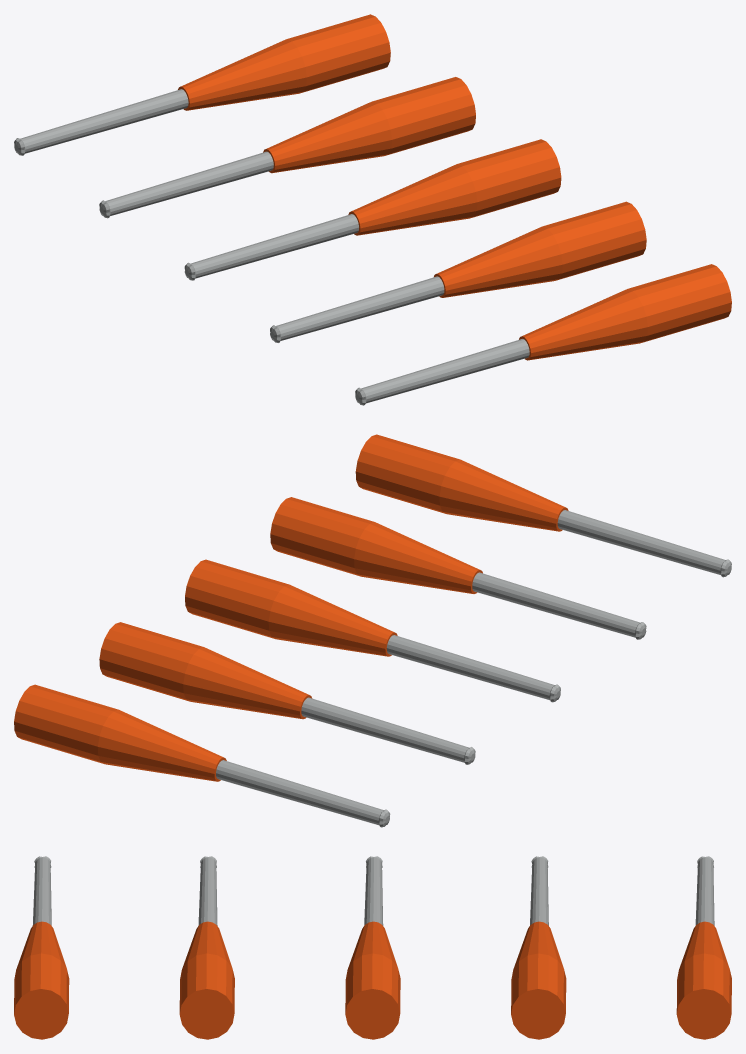
File: otvertki.fbx
3 renders of one model, top to bottom at view 1: azimuth 30°, elevation 25°; view 2: azimuth 150°, elevation 25°; view 3: azimuth 270°, elevation 25°, orthographic. The views are drawn at different scales.
Parts seen in each view (by area): view 1: Circle.038; view 2: Circle.038; view 3: Circle.038.
Boxes of the visible parts, x1,y1,x2,y2 form: Circle.038: (14, 14, 731, 405); Circle.038: (14, 434, 731, 827); Circle.038: (14, 856, 731, 1039).
Bounding box in the file's own units: 0.4269 × 0.0629 × 0.7572.
